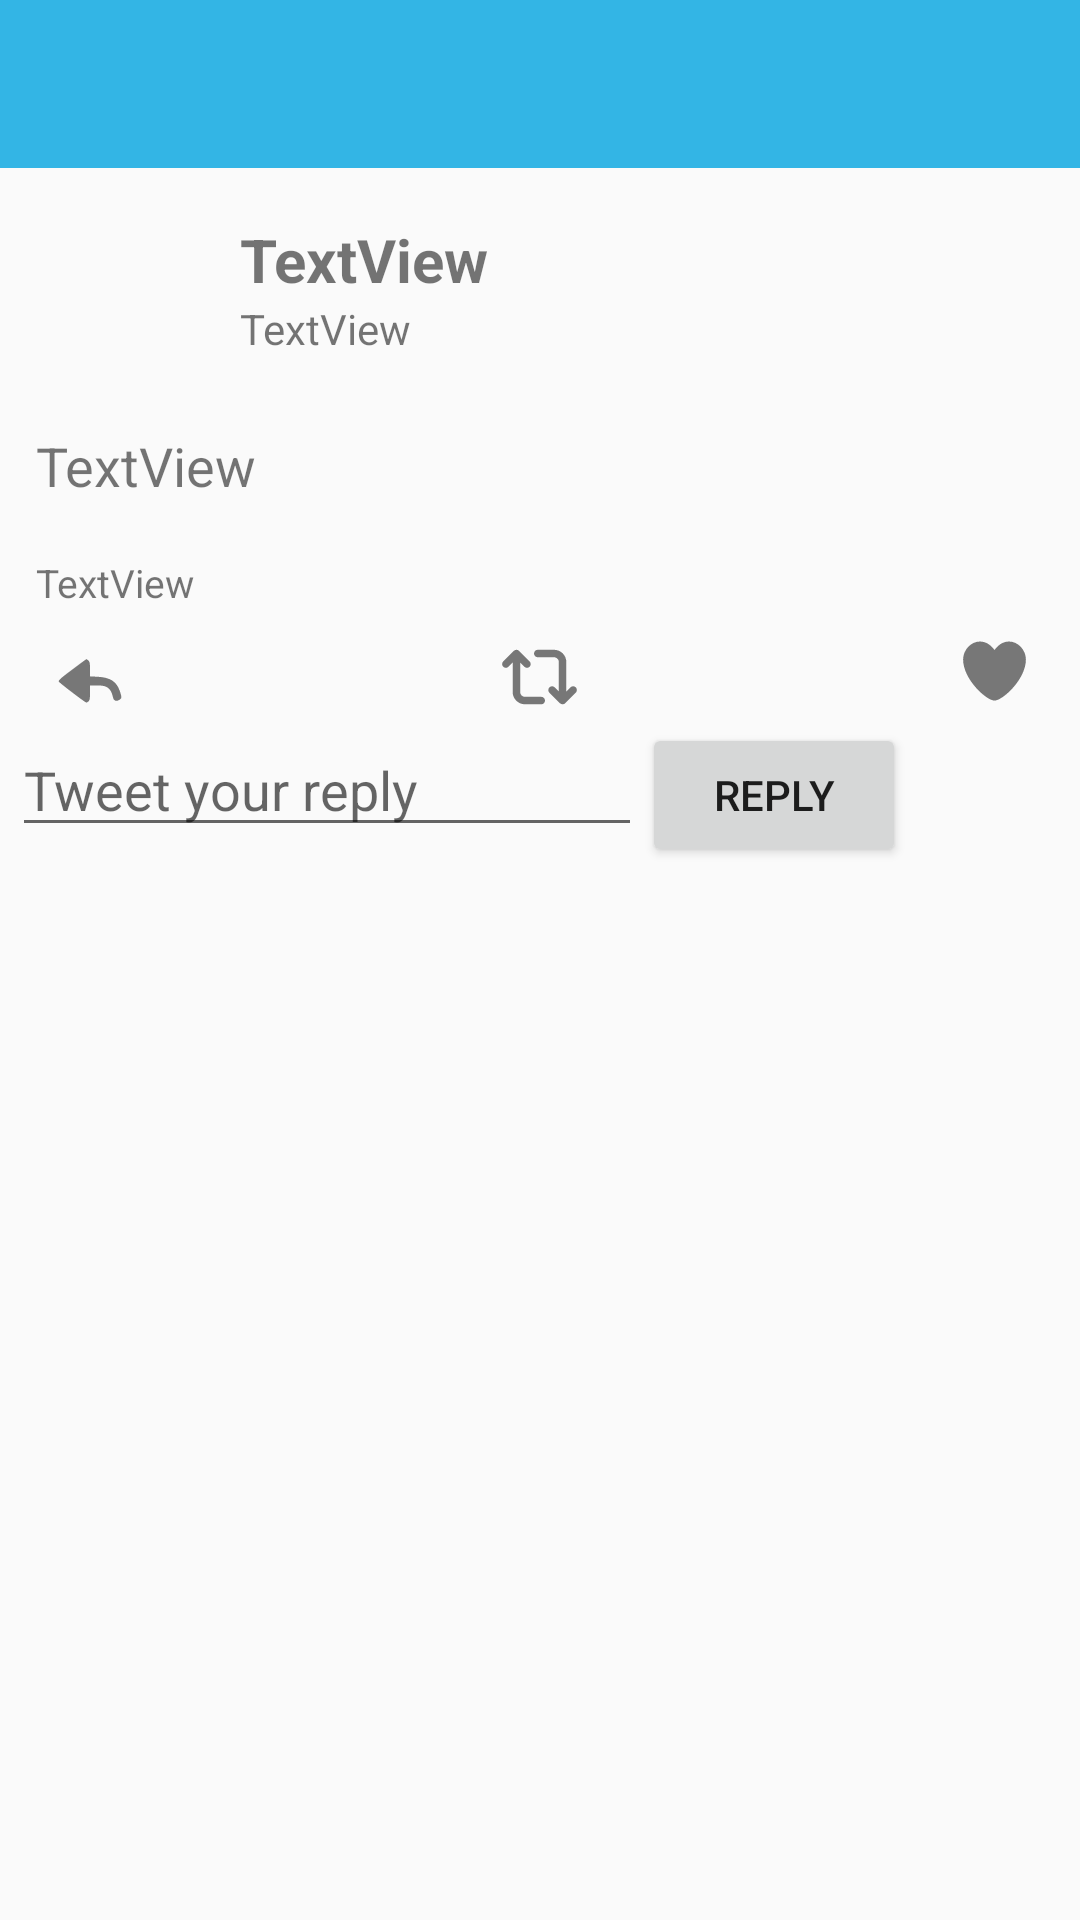

Where to tap for icons on this 1080px x 1920px app screen, as [x,y]:
heart: [994,671]
retweet: [539,677]
